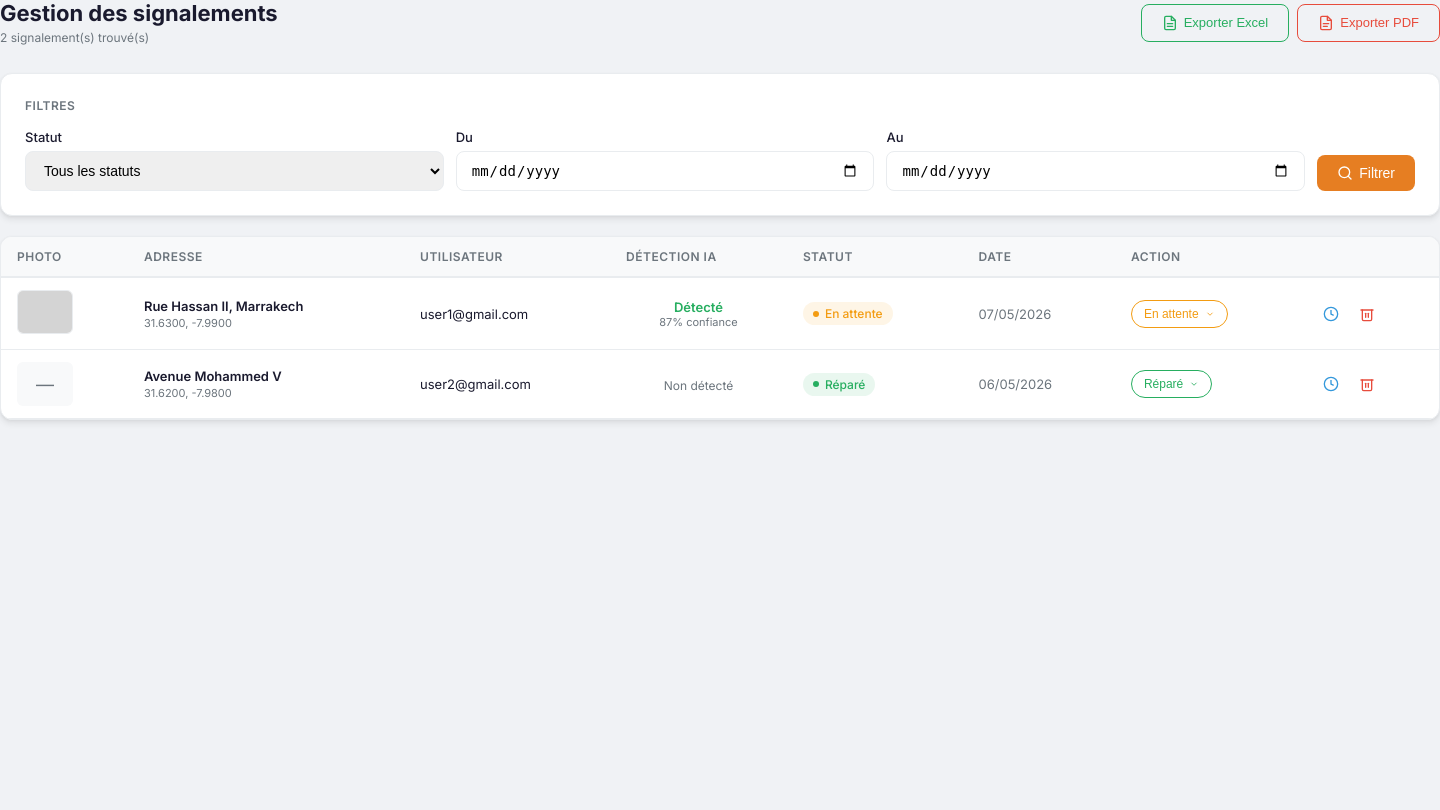
Reports › ferme le modal de suppression en cliquant Annuler
This screenshot has width=1440, height=810.
Check: the text "Rue Hassan II, Marrakech" is shown, box [144,298,303,314]
Click the button titled "Supprimer le signalement" in the row of "Rue Hassan II, Marrakech": (1366,314) [1352,300,1380,328]
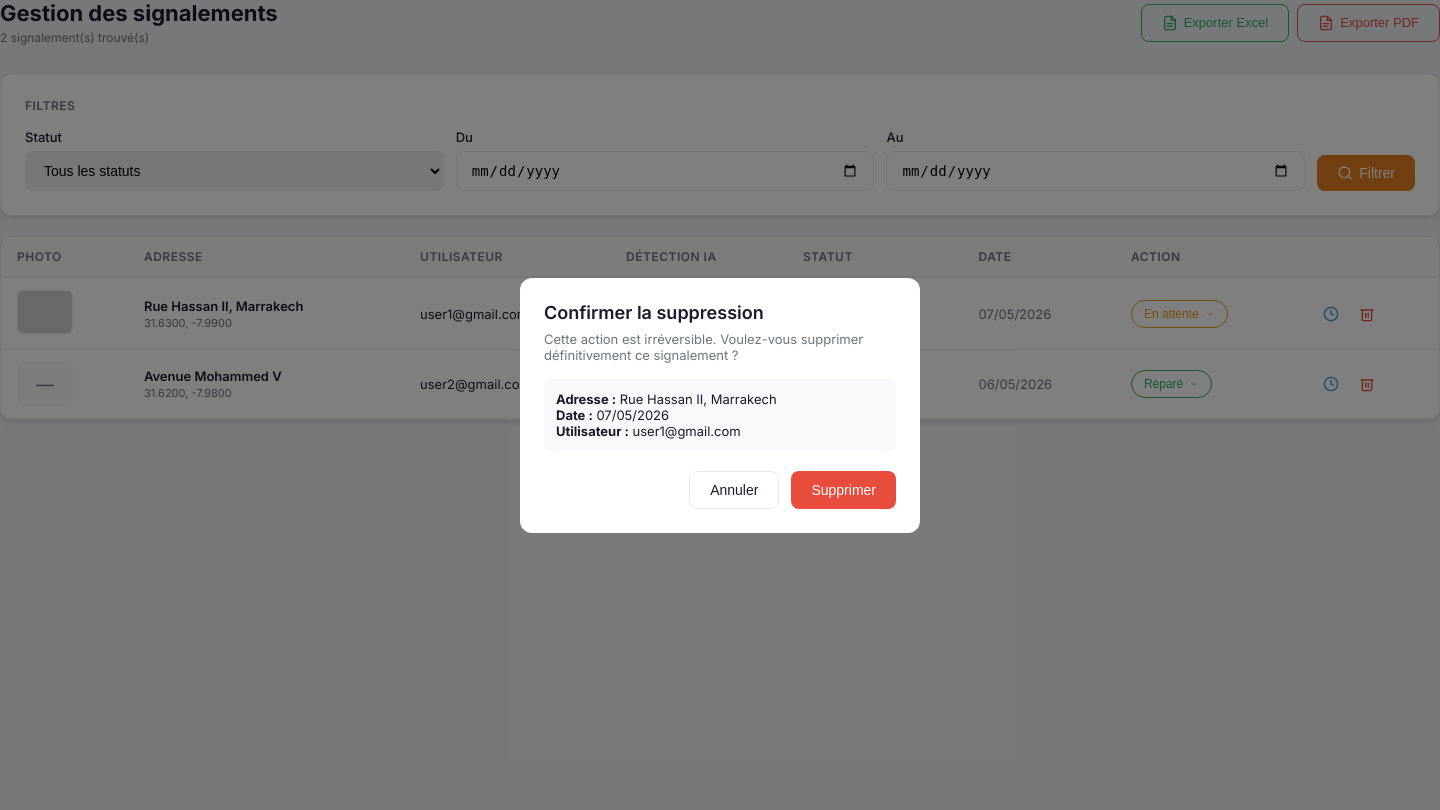
Check: the text "Confirmer la suppression" is shown, box [544,302,764,322]
Click the button "Annuler": (734,490) [689,470,779,508]
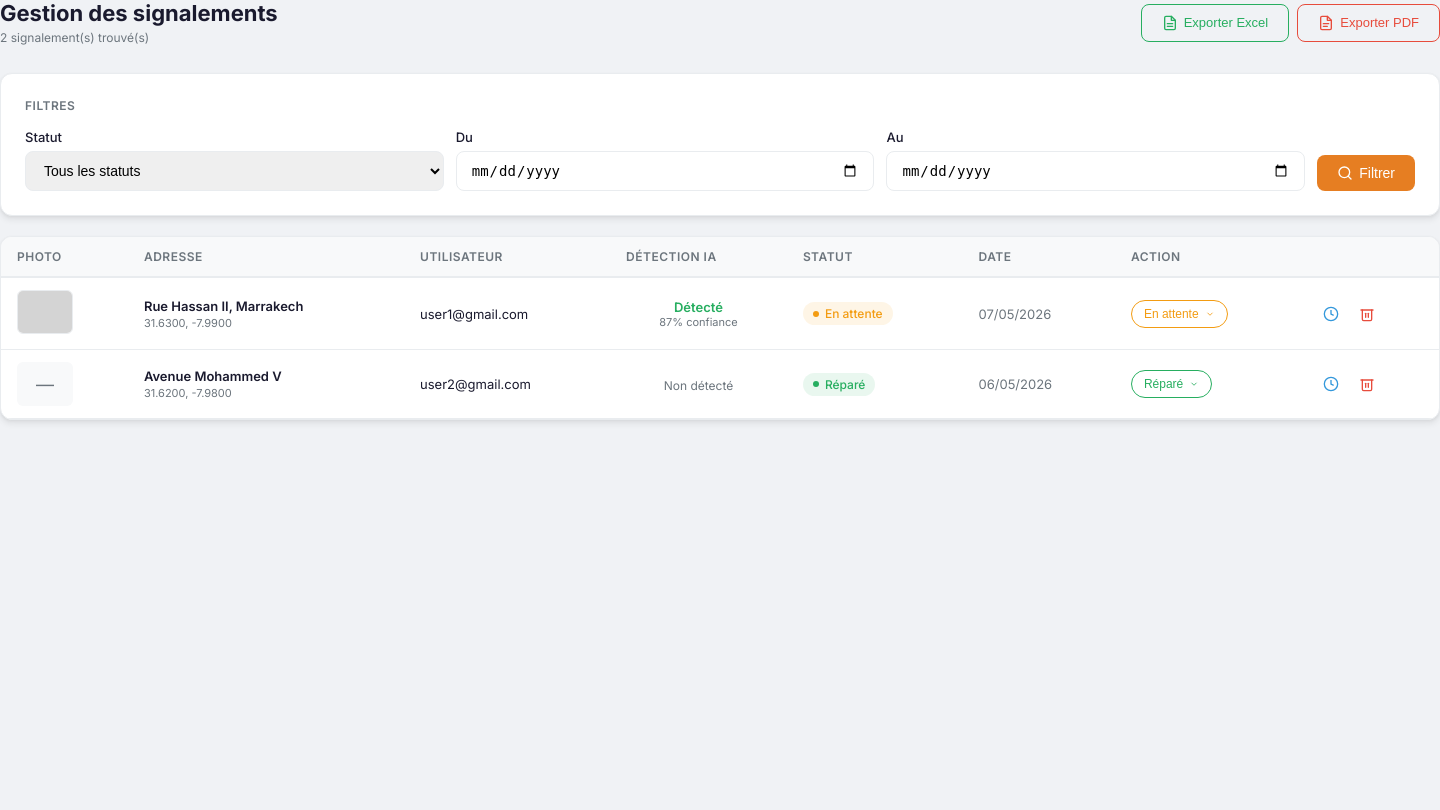
Check: the text "Confirmer la suppression" is gone
